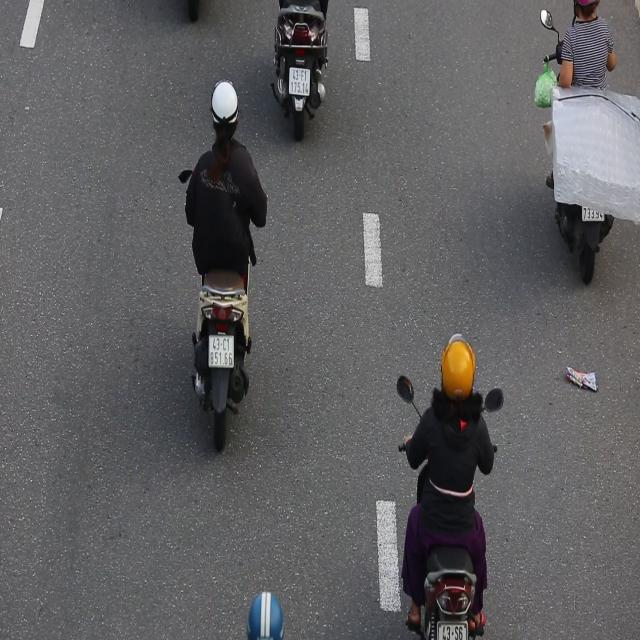motorbike: (176, 78, 269, 456)
